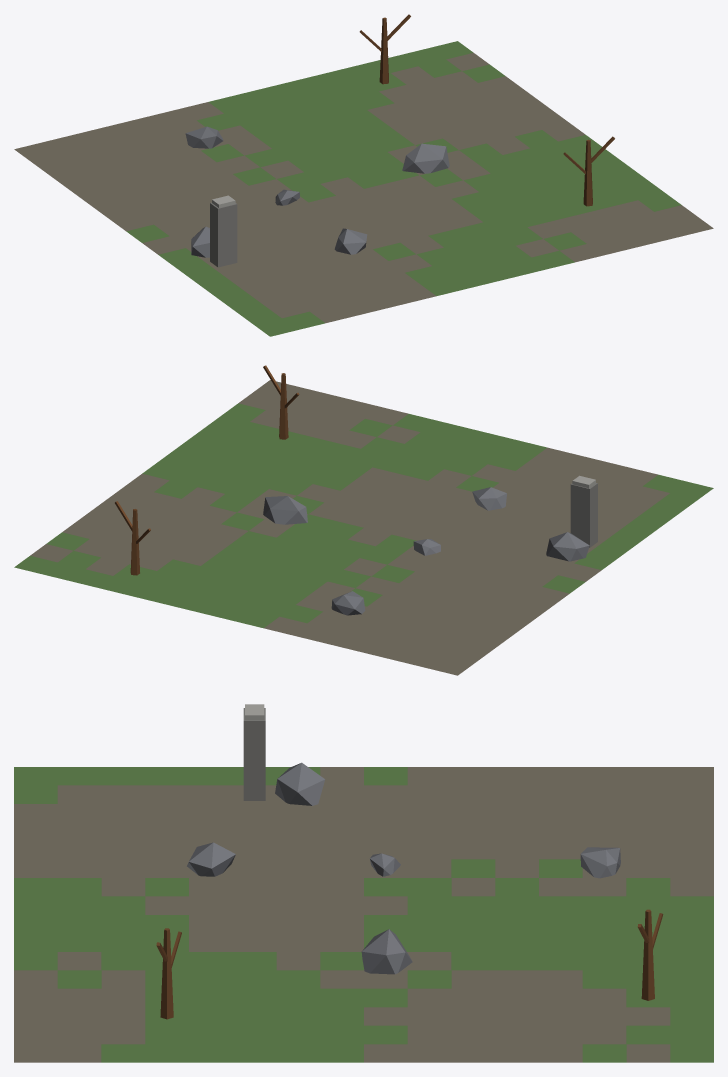
File: chunk_2_20.glb
3 renders of one model, top to bottom at view 1: azimuth 30°, elevation 25°; view 2: azimuth 150°, elevation 25°; view 3: azimuth 270°, elevation 25°, orthographic. The views are drawn at different scales.
Visible parts, largest first — view 1: chunk_2_20; view 2: chunk_2_20; view 3: chunk_2_20.
Boxes of the visible parts, box(x1,y1,x2,y2) form: chunk_2_20: box(14, 14, 713, 336); chunk_2_20: box(14, 365, 713, 675); chunk_2_20: box(14, 704, 713, 1062).
Bounding box in the file's own units: 16 × 2.72 × 16.
